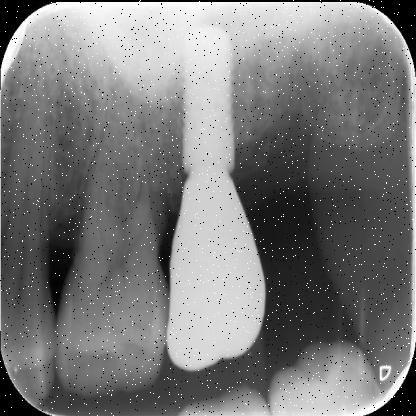ITI: (176, 17, 246, 173)
